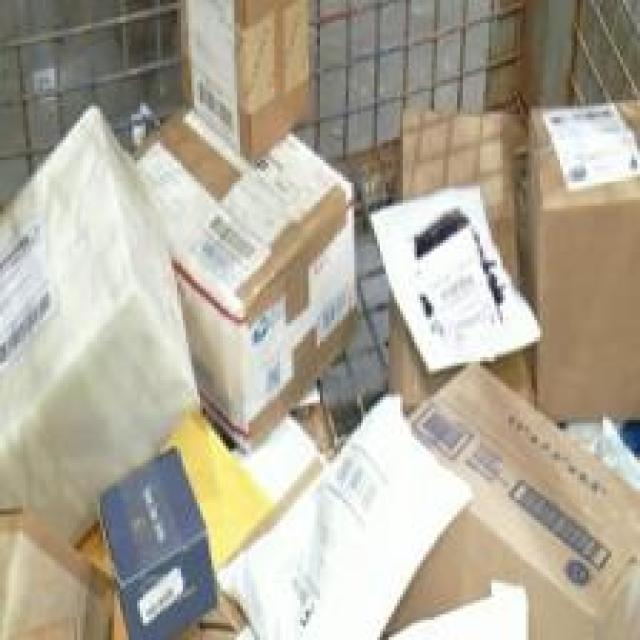box: (1, 103, 209, 545), (126, 102, 357, 459), (379, 363, 640, 638), (385, 108, 536, 435), (528, 99, 640, 421), (176, 1, 314, 160), (1, 501, 119, 640)
